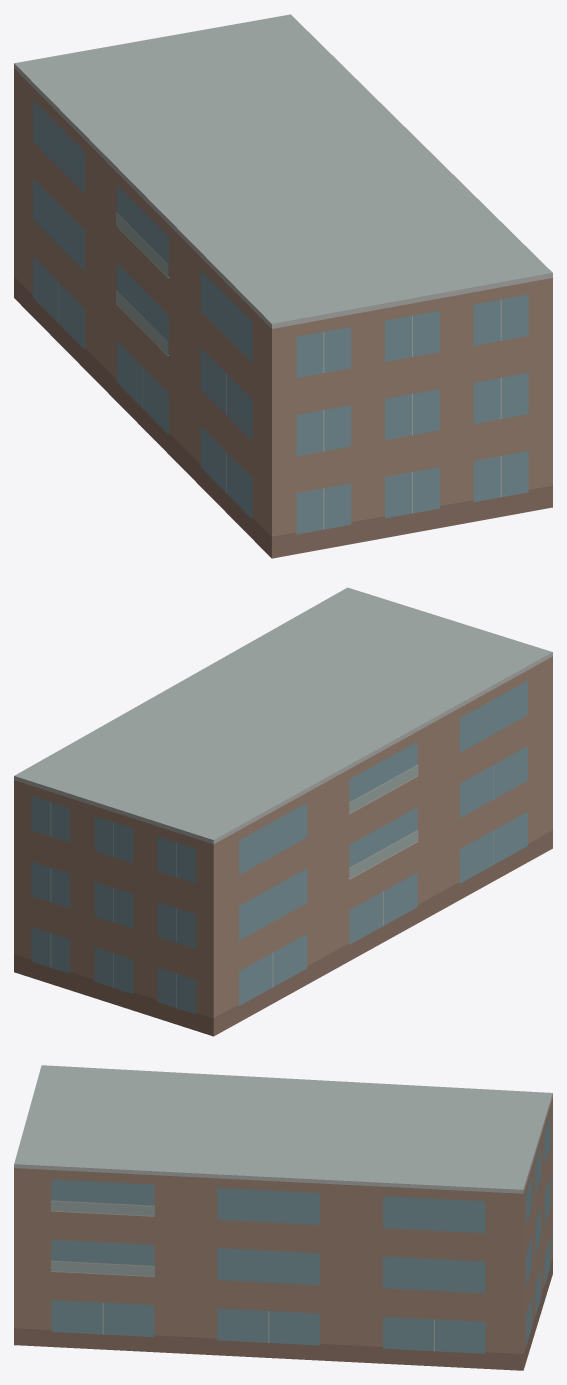
Rendered from survey-upis-32917309.glb.
3 renders of one model, top to bottom at view 1: azimuth 30°, elevation 25°; view 2: azimuth 150°, elevation 25°; view 3: azimuth 270°, elevation 25°, orthographic. The views are drawn at different scales.
Visible parts, largest first — view 1: survey-upis-32917309.tmp; view 2: survey-upis-32917309.tmp; view 3: survey-upis-32917309.tmp.
Part boxes in pixels (<box>): survey-upis-32917309.tmp: <box>14,14,552,558</box>; survey-upis-32917309.tmp: <box>14,587,552,1036</box>; survey-upis-32917309.tmp: <box>14,1065,552,1370</box>.
Bounding box in the file's own units: 16.71 × 11.3 × 30.51.
